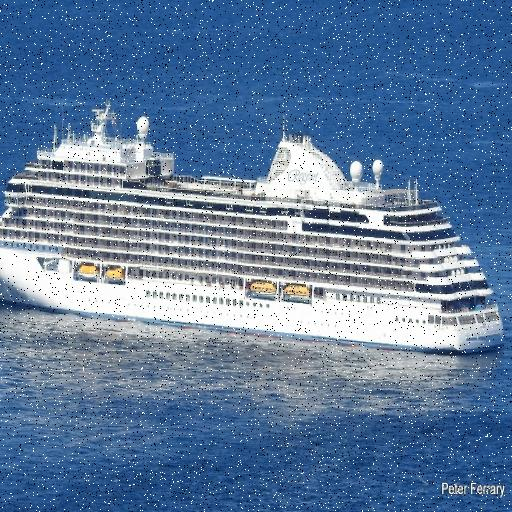cruises: (1, 91, 512, 367)
